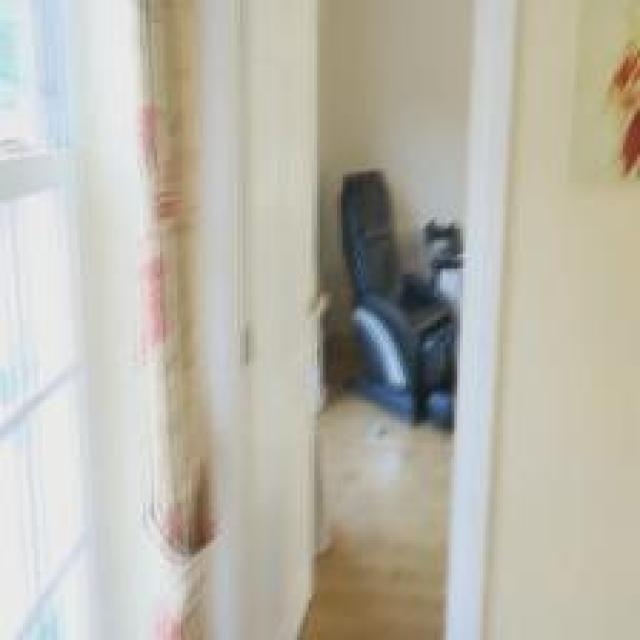other: (606, 38, 634, 163)
